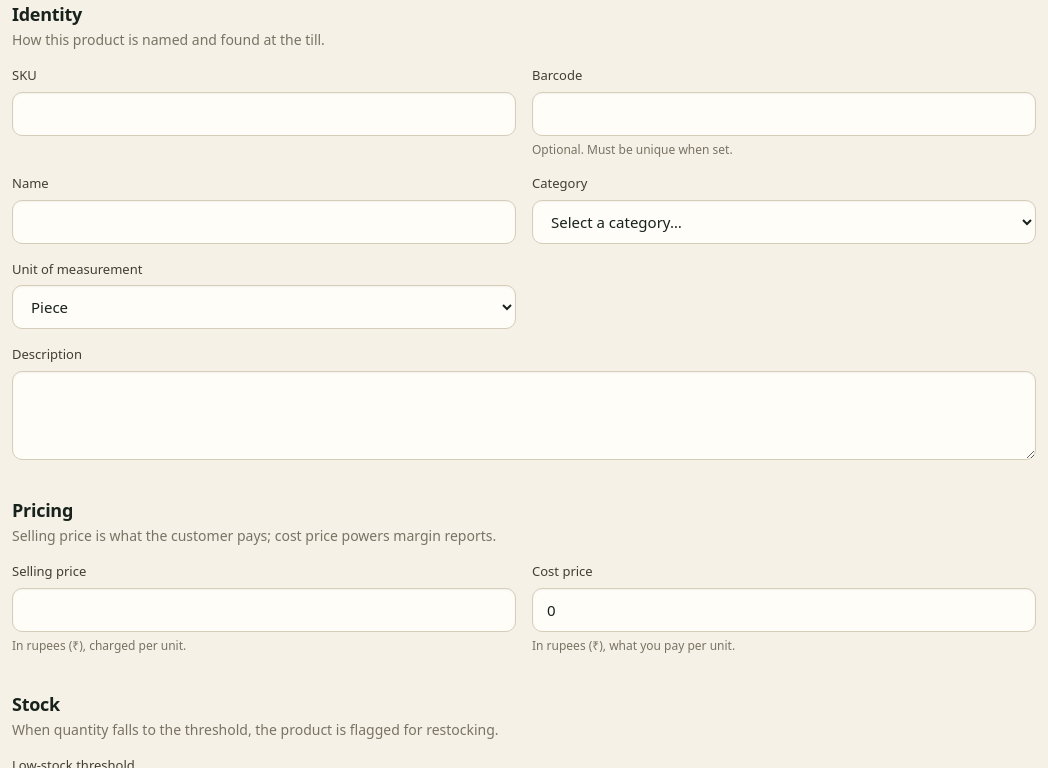
Scenario: ProductForm › maps a server-side duplicate SKU error onto the SKU field
This screenshot has width=1048, height=768.
Type "MILK-1" into the field labelled "SKU".
click(264, 114); type("MILK-1")  # box x1=12 y1=92 x2=516 y2=136
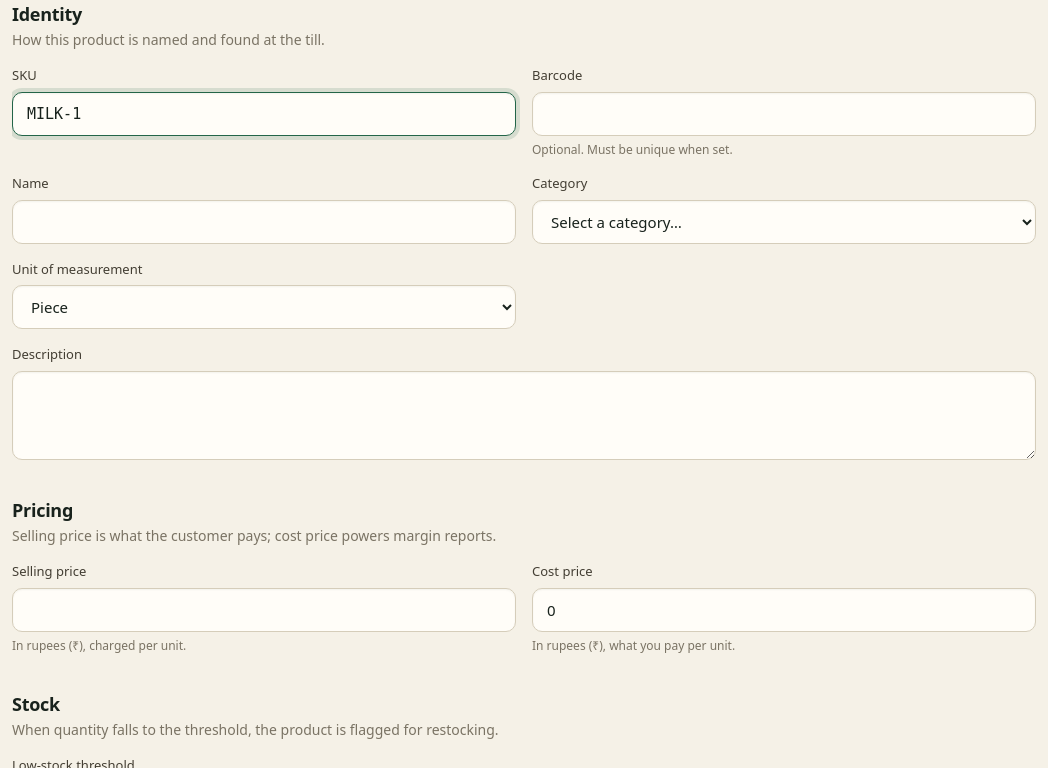
Type "Whole Milk" into the field labelled "Name".
click(264, 222); type("Whole Milk")  # box x1=12 y1=200 x2=516 y2=244
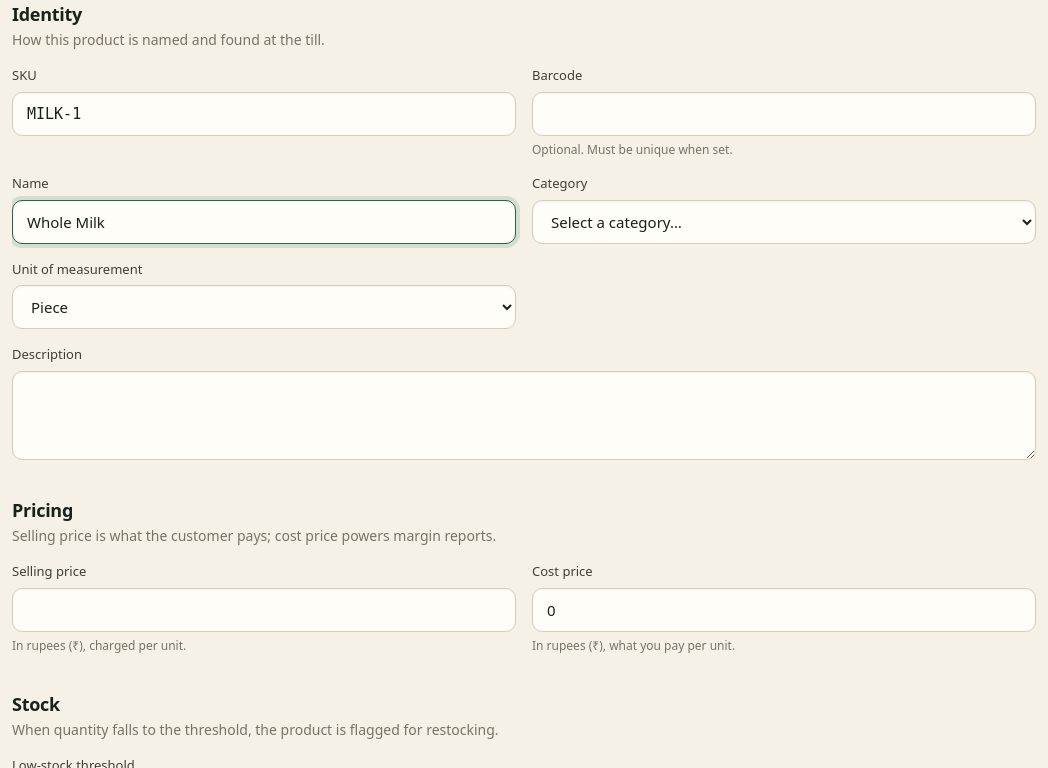
Select "Dairy" in the dropdown labelled "Category" at (784, 222), box x1=532 y1=200 x2=1036 y2=244
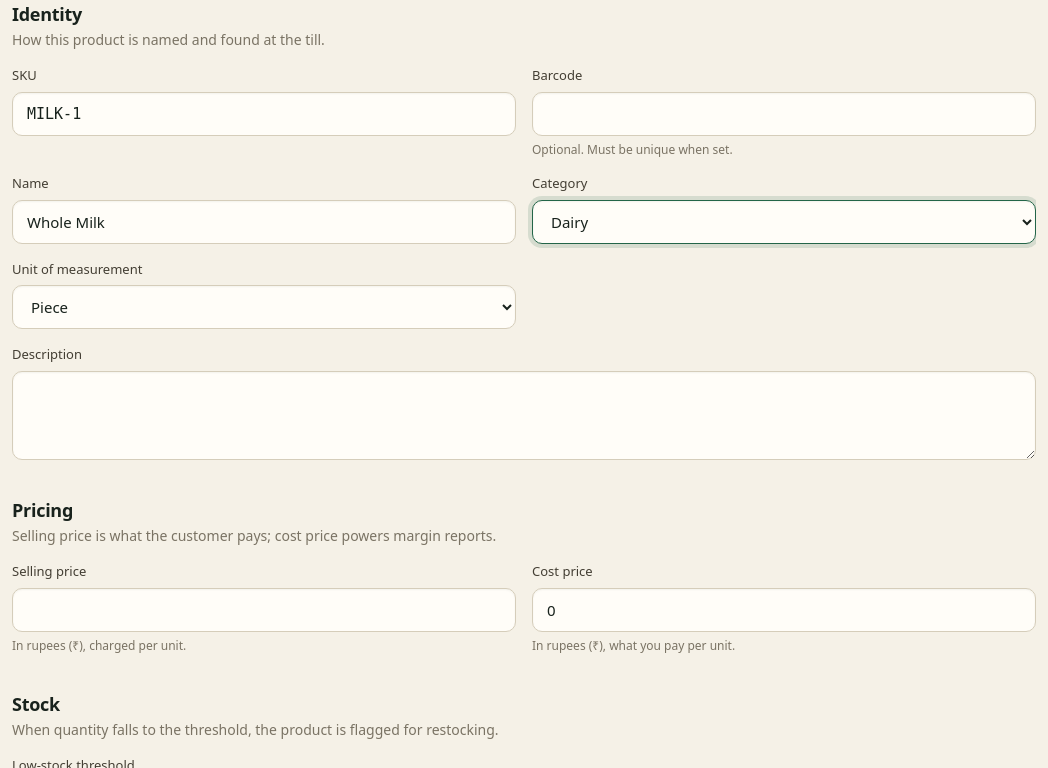
Type "1.99" into the field labelled "Selling price".
click(264, 610); type("1.99")  # box x1=12 y1=588 x2=516 y2=632
(page scrolled)
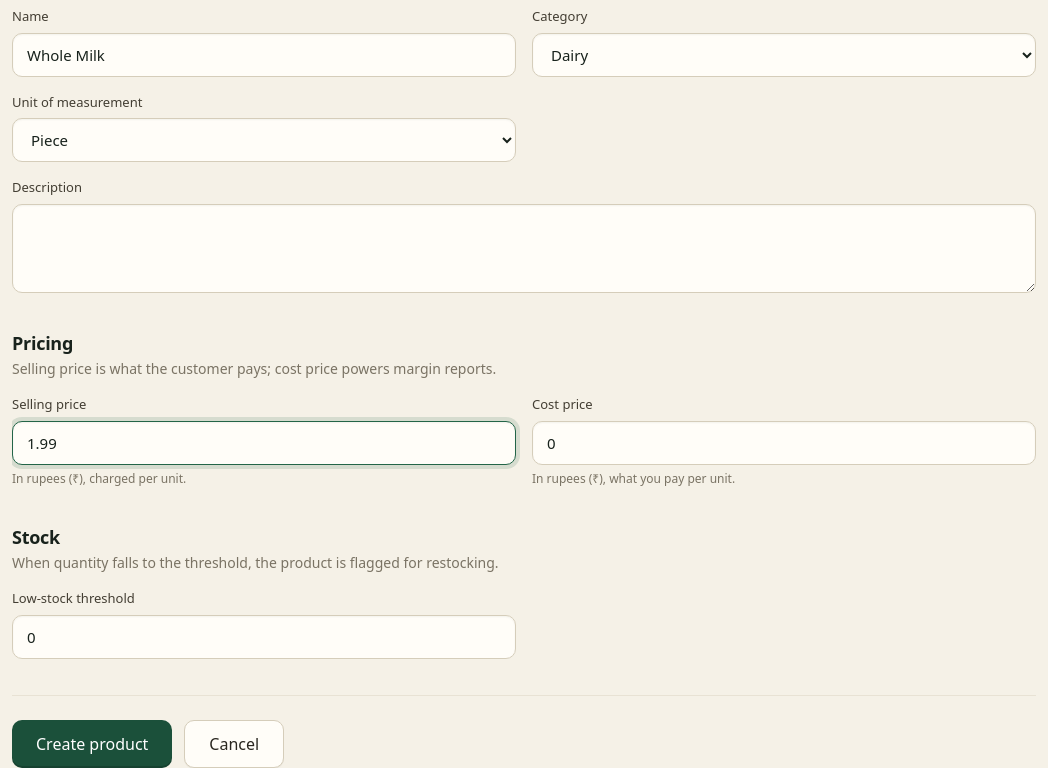
Click the button "Create product".
click(92, 744)  # box x1=12 y1=720 x2=172 y2=767
(page scrolled)
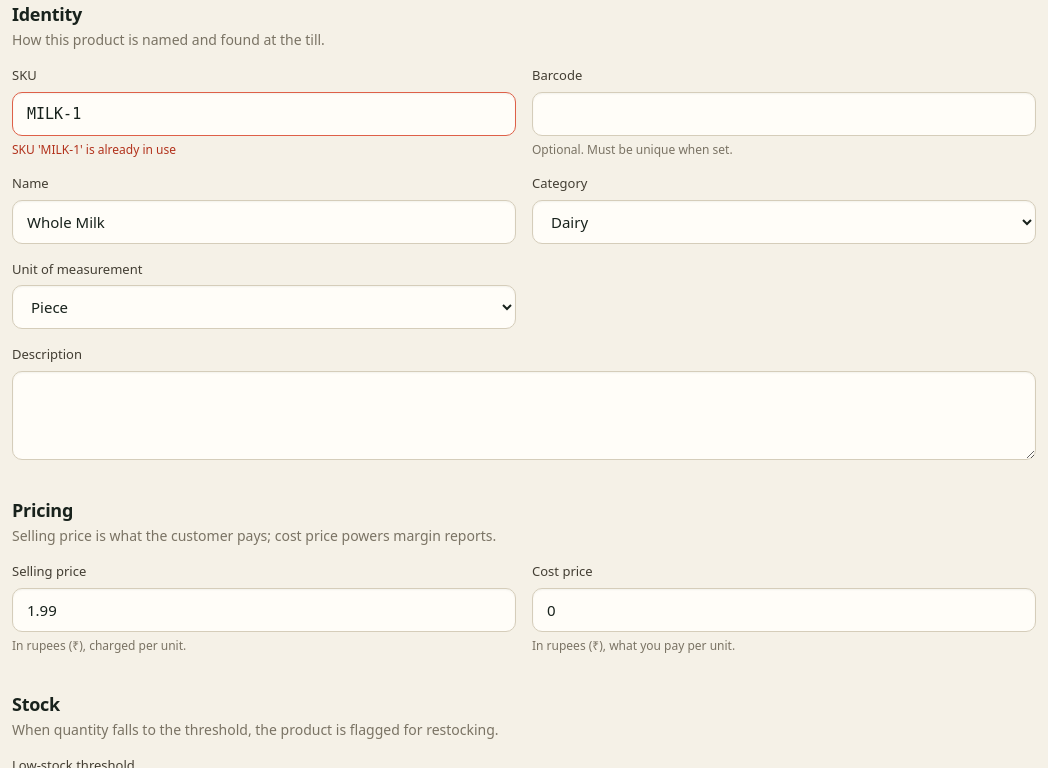
expect the text "SKU 'MILK-1' is already in use" is shown: met, box x1=12 y1=140 x2=176 y2=158
